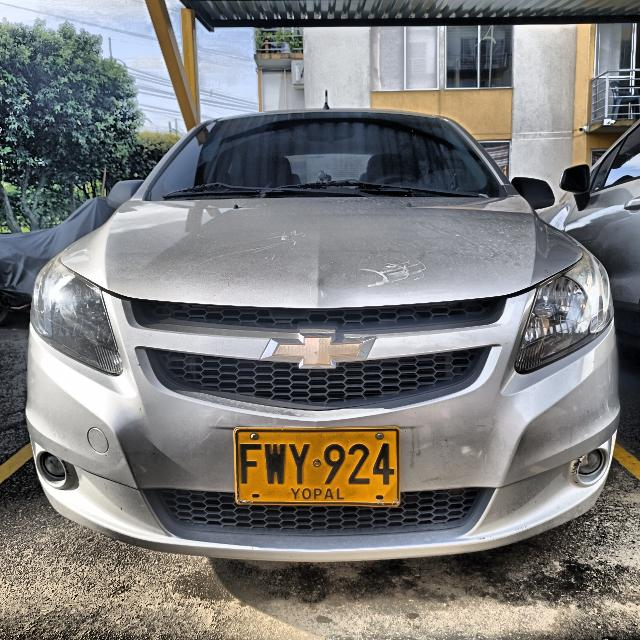plate: (235, 429, 398, 505)
